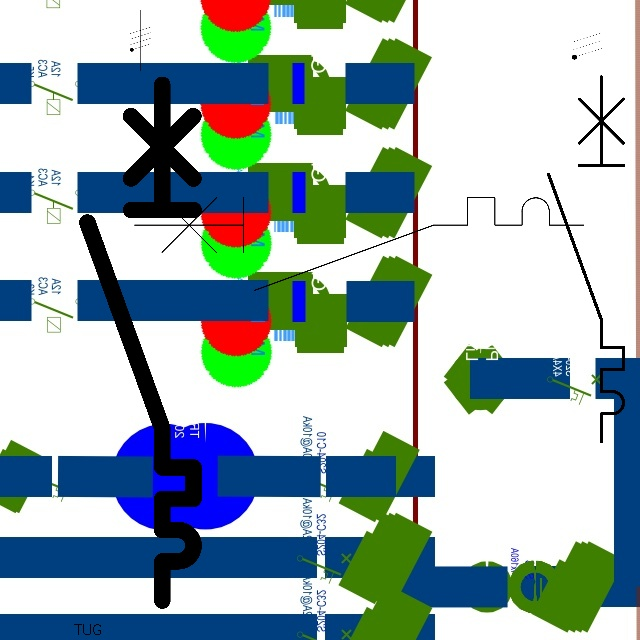interruptor_termomagnetico: (74, 71, 207, 613), (123, 186, 595, 301), (539, 67, 633, 451)
